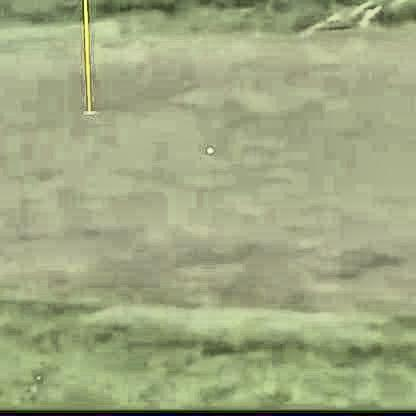golfball: (201, 144, 212, 154)
